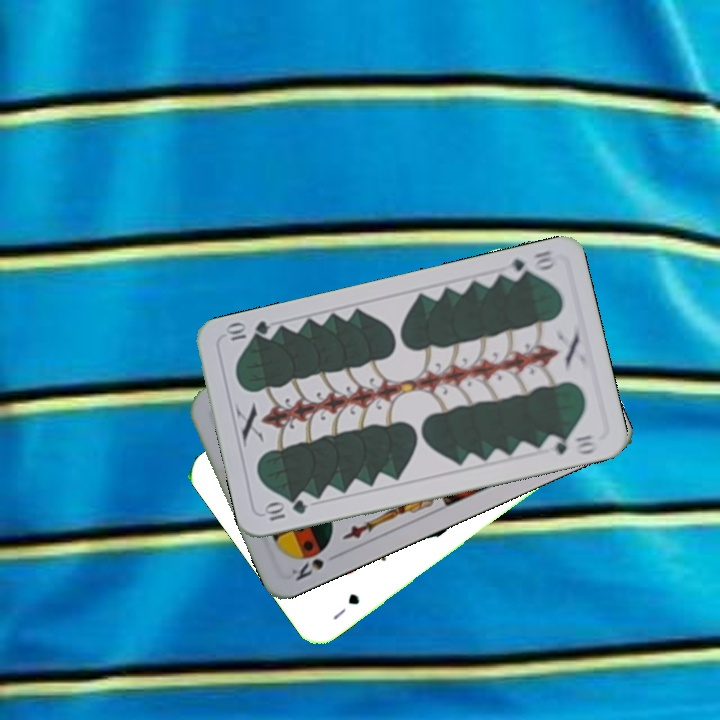G10: (500, 246, 560, 283), (260, 496, 310, 524)
GU: (329, 589, 362, 623)
SK: (287, 554, 327, 584)
